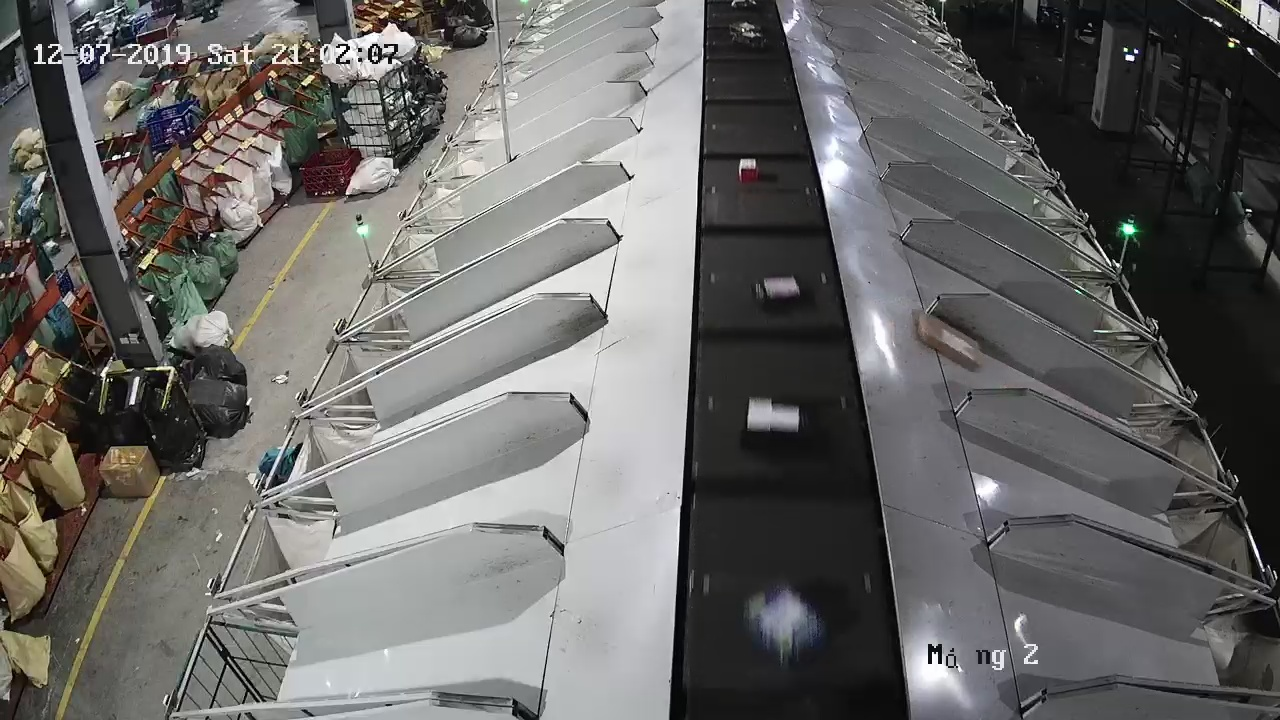parcel: (916, 311, 981, 372)
